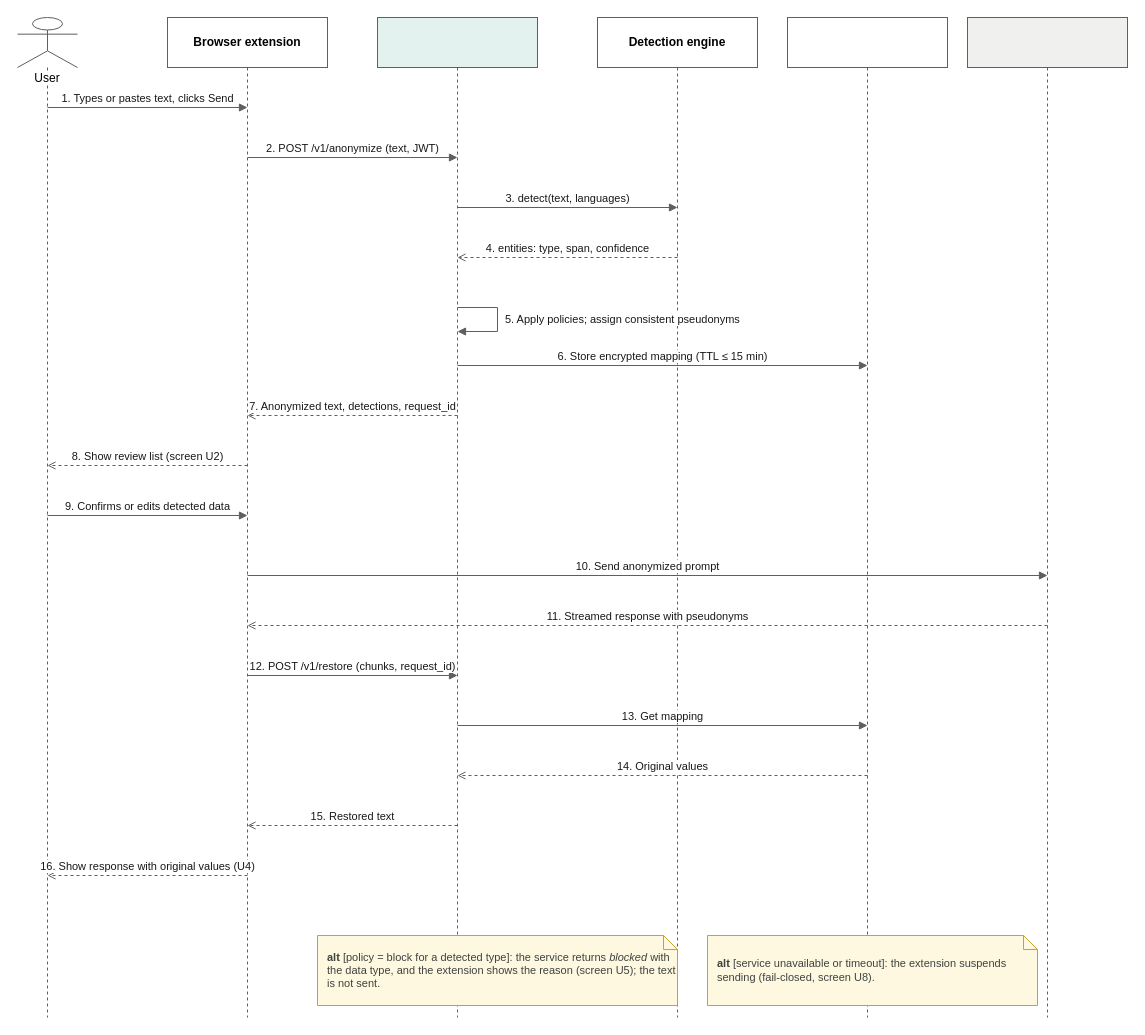
Some shapes in this 1145 by 1035 pixel diagram are drawn without their labels. Each missing label, with the box of its shape:
Anonymization service: (376, 16, 538, 1018)
ChatGPT / Gemini: (966, 16, 1128, 1018)
Redis mapping: (786, 16, 948, 1018)
